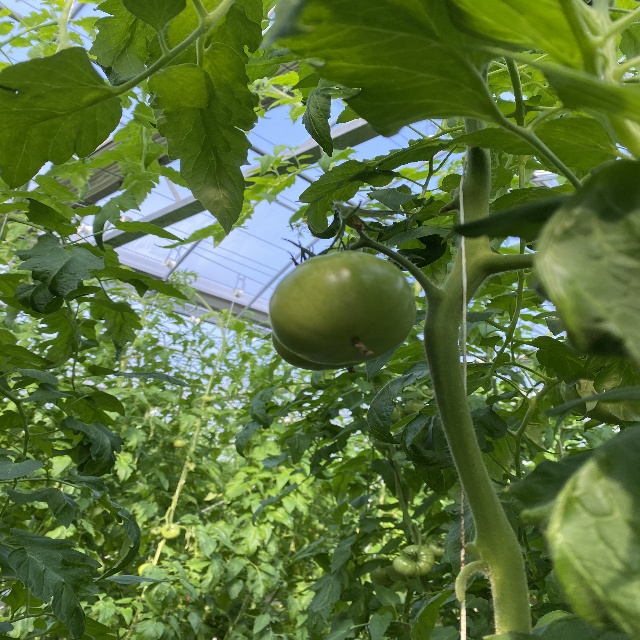b_green: (267, 250, 415, 366)
